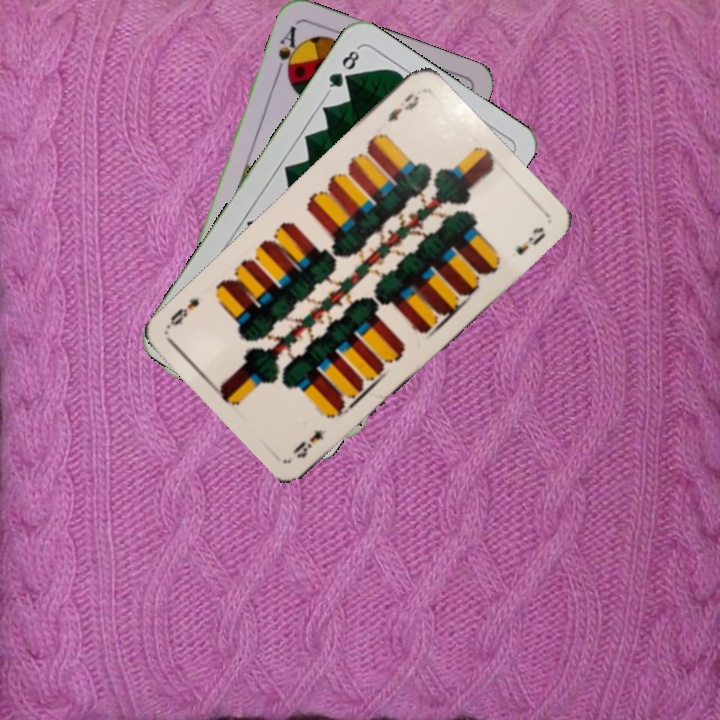E9: (383, 89, 422, 125), (289, 425, 327, 461)
G8: (323, 43, 363, 96)
SA: (272, 21, 304, 81)
